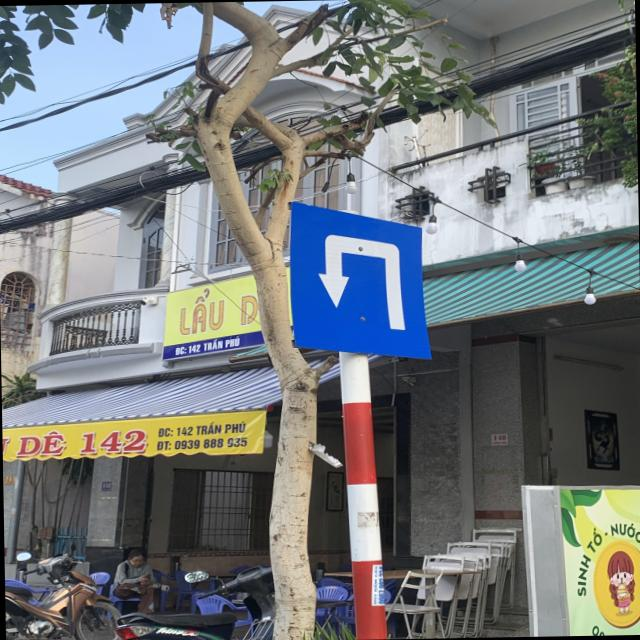Den_Giao_Thong: (290, 198, 427, 360)
